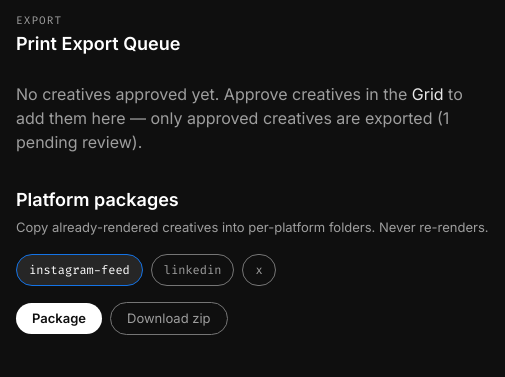
ExportPage — platform packaging › surfaces a package error
Click the button "Package".
click(59, 318)  # box [16,302,102,334]
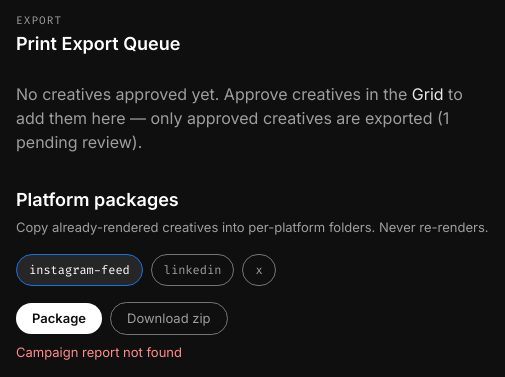
Result: the text "Campaign report not found" is shown at [16,344,182,360]
